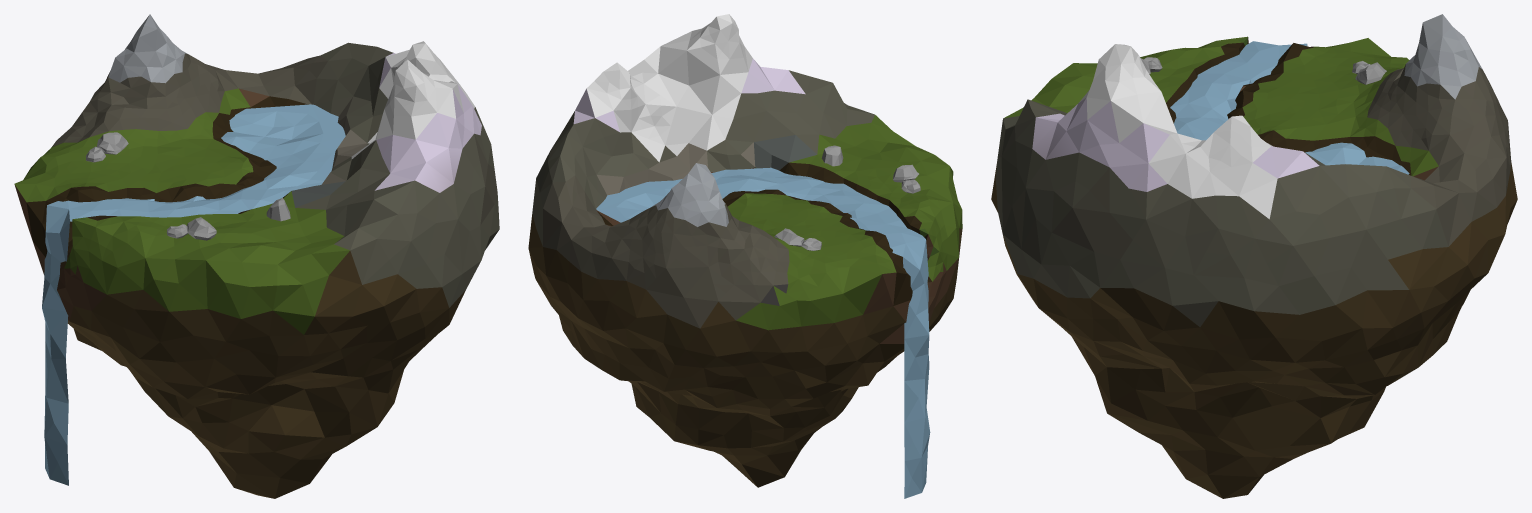
Rendered from maailma.glb.
3 views of the same model, side by side, from view 1: azimuth 30°, elevation 25°; view 2: azimuth 150°, elevation 25°; view 3: azimuth 270°, elevation 25° (orthographic). The views are drawn at different scales.
Visible parts, largest first — view 1: Icosphere, Plane, Rocks-material.003; view 2: Icosphere, Plane, Rocks-material.003; view 3: Icosphere, Plane, Rocks-material.003.
Part boxes in pixels (x1=…): Icosphere: x1=14, y1=14, x2=499, y2=498; Plane: x1=42, y1=104, x2=345, y2=485; Rocks-material.003: x1=86, y1=132, x2=290, y2=240; Icosphere: x1=528, y1=14, x2=962, y2=487; Plane: x1=596, y1=167, x2=930, y2=498; Rocks-material.003: x1=774, y1=145, x2=920, y2=250; Icosphere: x1=991, y1=14, x2=1517, y2=498; Plane: x1=1170, y1=41, x2=1409, y2=174; Rocks-material.003: x1=1140, y1=57, x2=1386, y2=84.
Size of the model in its own units: 49.8 by 51.36 by 48.88.
